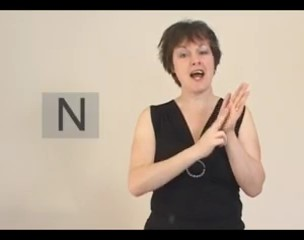N: (199, 78, 258, 159)
